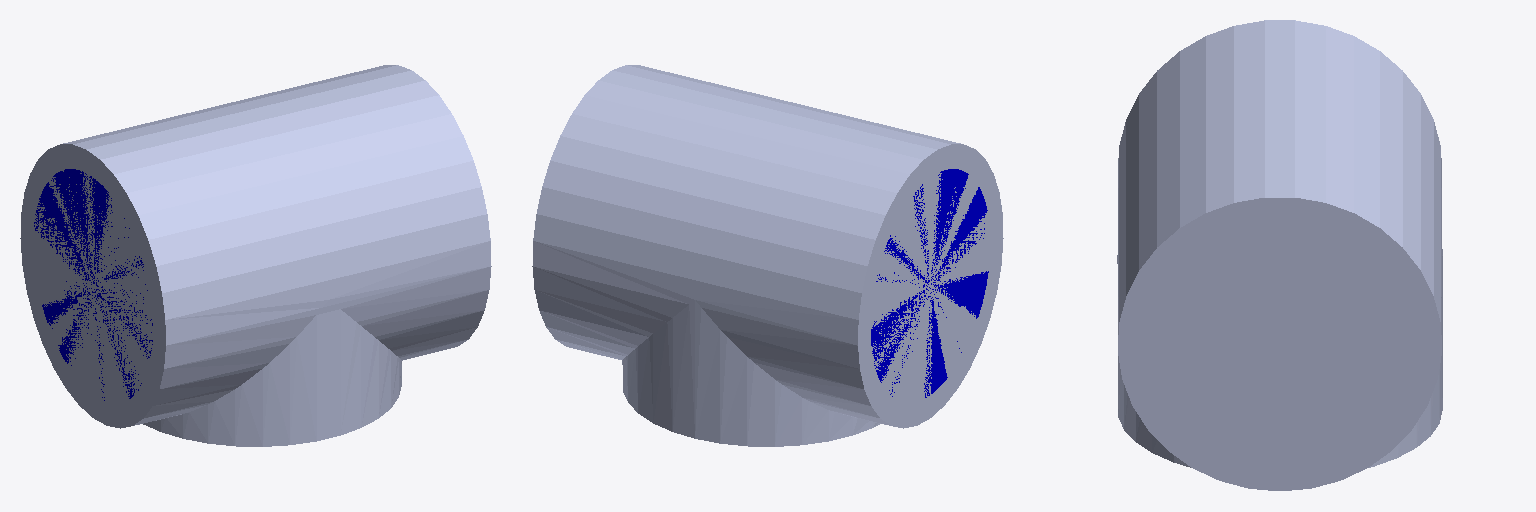
The robot description file, URDF, robot "corner_link.SLDASM":
<?xml version="1.0" encoding="utf-8"?>
<!-- This URDF was automatically created by SolidWorks to URDF Exporter! Originally created by [author] ([email redacted]) 
     Commit Version: 1.6.0-4-g7f85cfe  Build Version: 1.6.7995.38578
     For more information, please see http://wiki.ros.org/sw_urdf_exporter -->
<robot
  name="corner_link.SLDASM">
  <link
    name="i_1">
    <inertial>
      <origin
        xyz="3.9185E-16 -1.9593E-09 0.056333"
        rpy="0 0 0" />
      <mass
        value="1.619" />
      <inertia
        ixx="0.0028993"
        ixy="1.4265E-10"
        ixz="9.5159E-18"
        iyy="0.0042754"
        iyz="-5.9158E-11"
        izz="0.0041668" />
    </inertial>
    <visual>
      <origin
        xyz="0 0 0"
        rpy="0 0 0" />
      <geometry>
        <mesh
          filename="package://corner_link.SLDASM/meshes/i_1.STL" />
      </geometry>
      <material
        name="">
        <color
          rgba="0 0 0.93333 1" />
      </material>
    </visual>
    <collision>
      <origin
        xyz="0 0 0"
        rpy="0 0 0" />
      <geometry>
        <mesh
          filename="package://corner_link.SLDASM/meshes/i_1.STL" />
      </geometry>
    </collision>
  </link>
  <link
    name="b">
    <inertial>
      <origin
        xyz="3.91846719143235E-16 -1.95928459675233E-09 0.0563333044171351"
        rpy="0 0 0" />
      <mass
        value="1.61900837748787" />
      <inertia
        ixx="0.00289926753172073"
        ixy="1.42651482801669E-10"
        ixz="9.51585578018144E-18"
        iyy="0.00427542905387338"
        iyz="-5.91584212784467E-11"
        izz="0.00416675527027252" />
    </inertial>
    <visual>
      <origin
        xyz="0 0 0"
        rpy="0 0 0" />
      <geometry>
        <mesh
          filename="package://corner_link.SLDASM/meshes/b.STL" />
      </geometry>
      <material
        name="">
        <color
          rgba="0.792156862745098 0.819607843137255 0.933333333333333 1" />
      </material>
    </visual>
    <collision>
      <origin
        xyz="0 0 0"
        rpy="0 0 0" />
      <geometry>
        <mesh
          filename="package://corner_link.SLDASM/meshes/b.STL" />
      </geometry>
    </collision>
  </link>
  <joint
    name="f_1"
    type="fixed">
    <origin
      xyz="0 0 0"
      rpy="0 0 0" />
    <parent
      link="i_1" />
    <child
      link="b" />
    <axis
      xyz="0 0 0" />
  </joint>
  <link
    name="i_2">
    <inertial>
      <origin
        xyz="0.0036667 -1.9593E-09 0.0735"
        rpy="0 0 0" />
      <mass
        value="1.619" />
      <inertia
        ixx="0.0041668"
        ixy="5.9158E-11"
        ixz="-4.3193E-19"
        iyy="0.0042754"
        iyz="1.4265E-10"
        izz="0.0028993" />
    </inertial>
    <visual>
      <origin
        xyz="0 0 0"
        rpy="0 0 0" />
      <geometry>
        <mesh
          filename="package://corner_link.SLDASM/meshes/i_2.STL" />
      </geometry>
      <material
        name="">
        <color
          rgba="0 0 0.93333 1" />
      </material>
    </visual>
    <collision>
      <origin
        xyz="0 0 0"
        rpy="0 0 0" />
      <geometry>
        <mesh
          filename="package://corner_link.SLDASM/meshes/i_2.STL" />
      </geometry>
    </collision>
  </link>
  <joint
    name="f_2"
    type="fixed">
    <origin
      xyz="-0.0734999999999996 0 0.0600000000000005"
      rpy="0 1.5707963267949 0" />
    <parent
      link="b" />
    <child
      link="i_2" />
    <axis
      xyz="0 0 0" />
  </joint>
</robot>

--- Render facts (derived) ---
3 views of the same robot in one strip: view 1: azimuth 30°, elevation 25°; view 2: azimuth 150°, elevation 25°; view 3: azimuth 270°, elevation 25° (orthographic).
Robot: corner_link.SLDASM — 3 links, 2 joints (2 fixed); root link i_1; default pose: all joints at 0.
Visible links, largest first — view 1: b, i_2; view 2: b, i_2; view 3: b.
Boxes of the visible links, box(x1,y1,x2,y2) form: b: box(20, 65, 491, 446); i_2: box(34, 169, 152, 400); b: box(532, 65, 1003, 446); i_2: box(871, 169, 988, 397); b: box(1117, 20, 1442, 490).
Size in the robot's own frame: 0.147 by 0.114 by 0.1167 metres.
Meshes: 3 distinct files referenced, 3 mesh visuals loaded (3 binary STL).